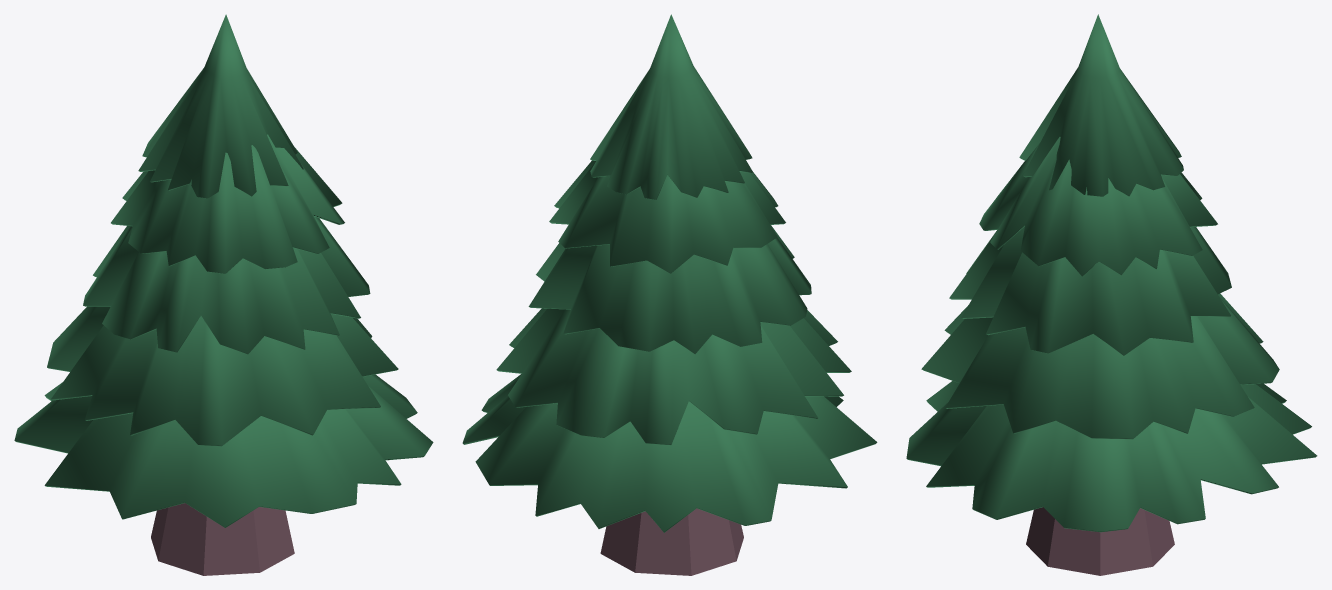
Rendered from ArvorePequena.fbx.
3 views of the same model, side by side, from view 1: azimuth 30°, elevation 25°; view 2: azimuth 150°, elevation 25°; view 3: azimuth 270°, elevation 25° (orthographic).
Visible parts, largest first — view 1: ArvorePequena_LOD0; view 2: ArvorePequena_LOD0; view 3: ArvorePequena_LOD0.
Boxes of the visible parts, x1,y1,x2,y2 form: ArvorePequena_LOD0: [14, 14, 433, 575]; ArvorePequena_LOD0: [462, 14, 877, 575]; ArvorePequena_LOD0: [906, 14, 1317, 575].
Size of what is drawn, in the model's own units: 435 by 612 by 429.
